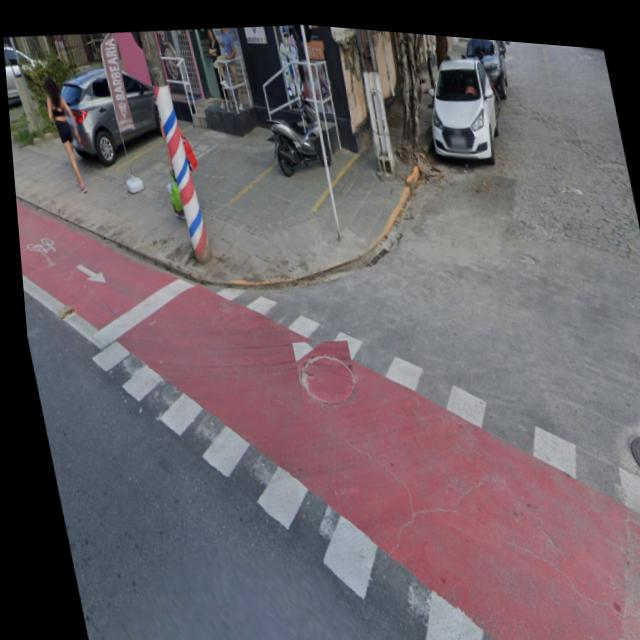Bueiro: (286, 331, 354, 404)
